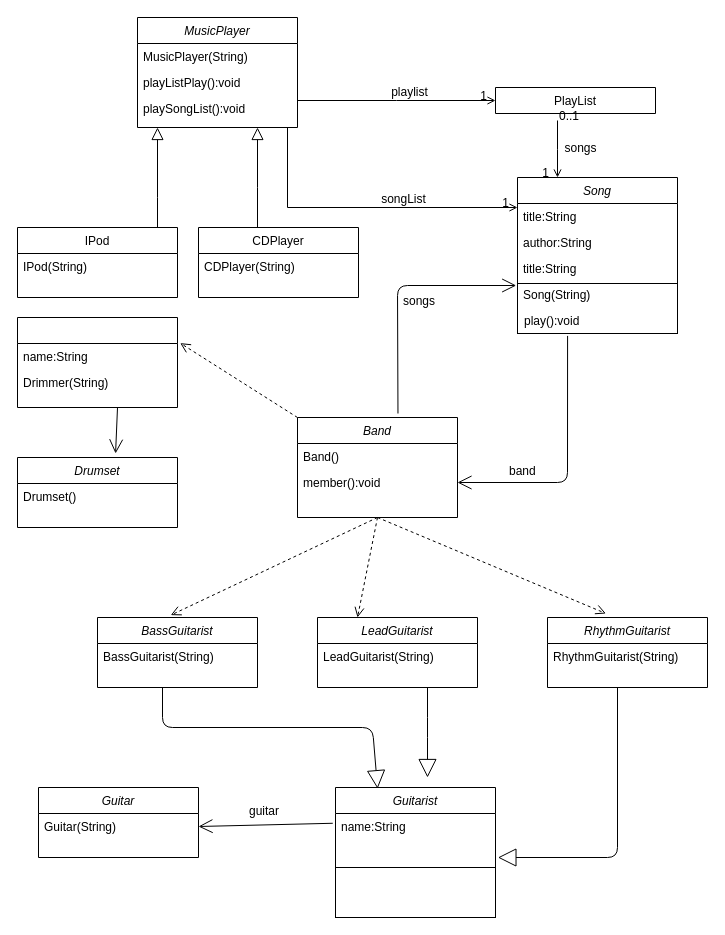
The diagram is 725 pixels wide and 935 high, and some of its shapes have lost their labels. Here are the shapes that lost their labels. From the top down, the box of each, then its label:
(16, 316, 178, 408): Drummer
(334, 866, 496, 918): Guitarist(String)
